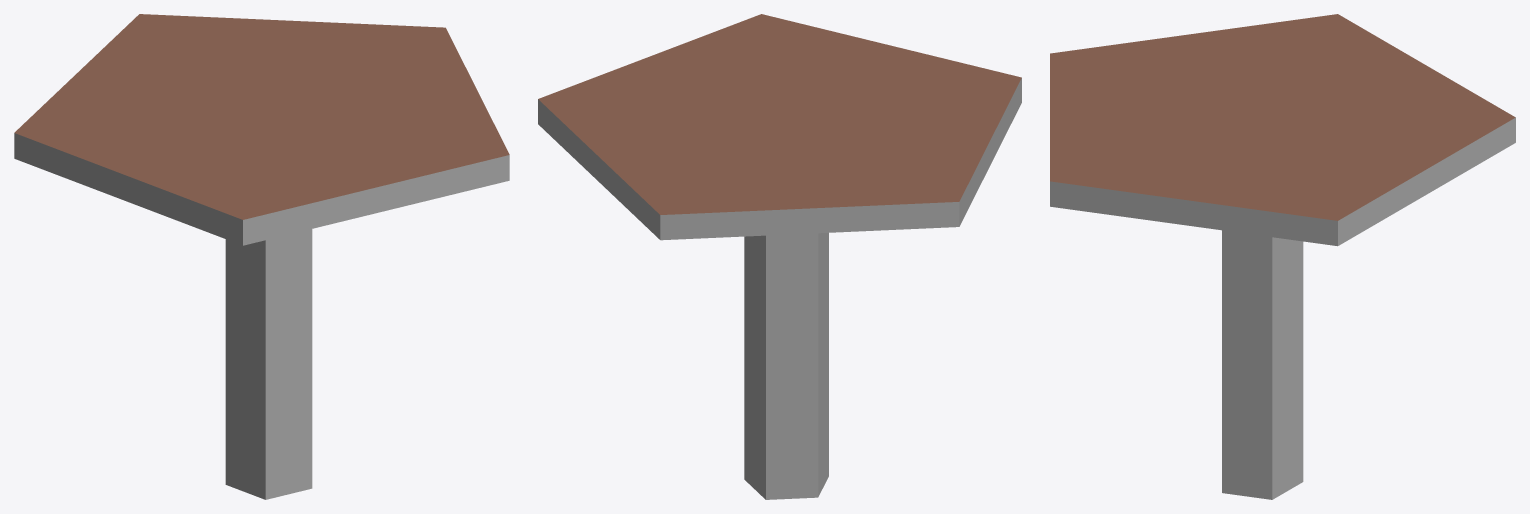
The model's file is MiniTable.fbx.
3 views of the same model, side by side, from view 1: azimuth 30°, elevation 25°; view 2: azimuth 150°, elevation 25°; view 3: azimuth 270°, elevation 25° (orthographic). The views are drawn at different scales.
Visible parts, largest first — view 1: Cylinder; view 2: Cylinder; view 3: Cylinder.
Part boxes in pixels (x1,y1,x2,y2): Cylinder: (14, 14, 509, 499); Cylinder: (538, 14, 1021, 499); Cylinder: (1050, 14, 1515, 499).
Bounding box in the file's own units: 190 × 156 × 181.
